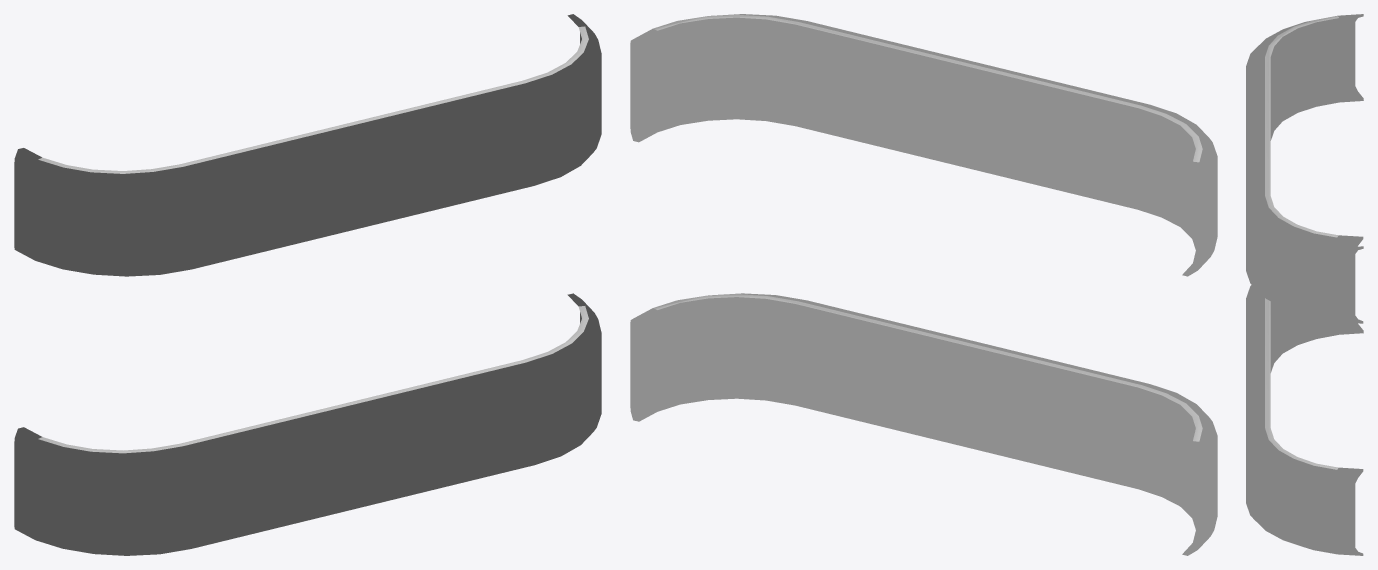
File: mudflap.obj
3 renders of one model, left to right at view 1: azimuth 30°, elevation 25°; view 2: azimuth 150°, elevation 25°; view 3: azimuth 270°, elevation 25°, orthographic. The views are drawn at different scales.
Parts seen in each view (by area): view 1: Object001; view 2: Object001; view 3: Object001.
Boxes of the visible parts, x1,y1,x2,y2 form: Object001: (14,14,601,555); Object001: (630,14,1217,555); Object001: (1246,14,1363,555).
Bounding box in the file's own units: 3.92 × 2.5 × 0.8399.
1 material, 1 textured.
